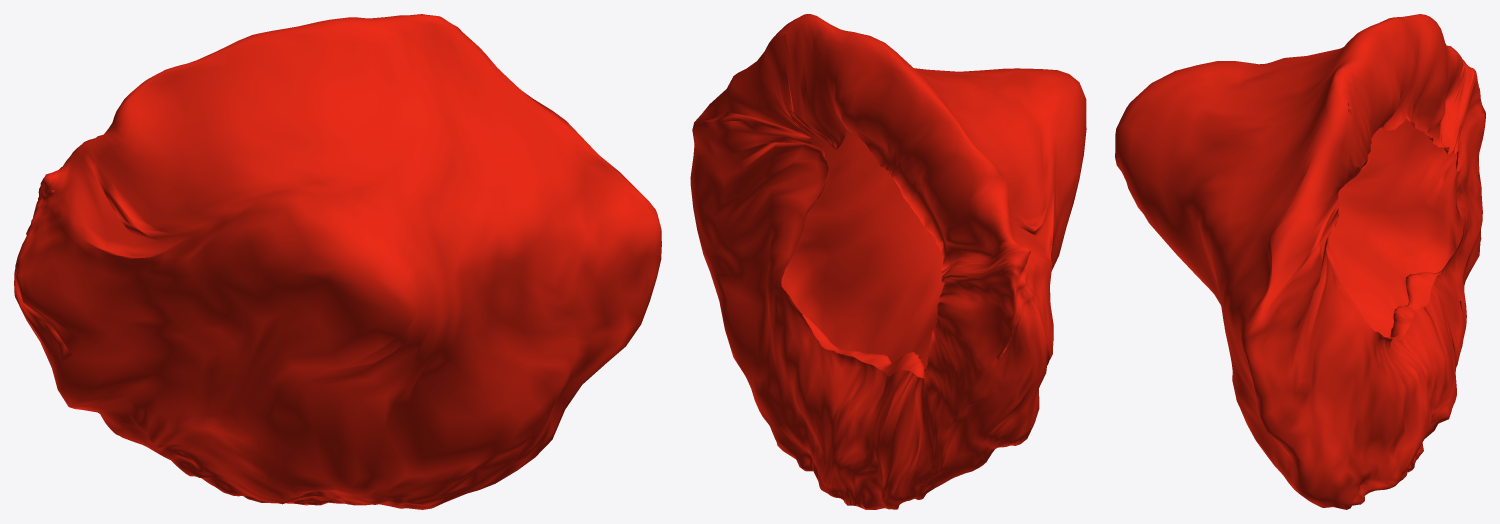
The model's file is EDJCaries_5_OC.glb.
3 renders of one model, left to right at view 1: azimuth 30°, elevation 25°; view 2: azimuth 150°, elevation 25°; view 3: azimuth 270°, elevation 25°, orthographic. The views are drawn at different scales.
Visible parts, largest first — view 1: D5 b.001; view 2: D5 b.001; view 3: D5 b.001.
Boxes of the visible parts, x1=… form: D5 b.001: x1=14, y1=14, x2=661, y2=509; D5 b.001: x1=690, y1=14, x2=1086, y2=509; D5 b.001: x1=1115, y1=14, x2=1485, y2=509.
Bounding box in the file's own units: 3.74 × 3.46 × 2.66.
